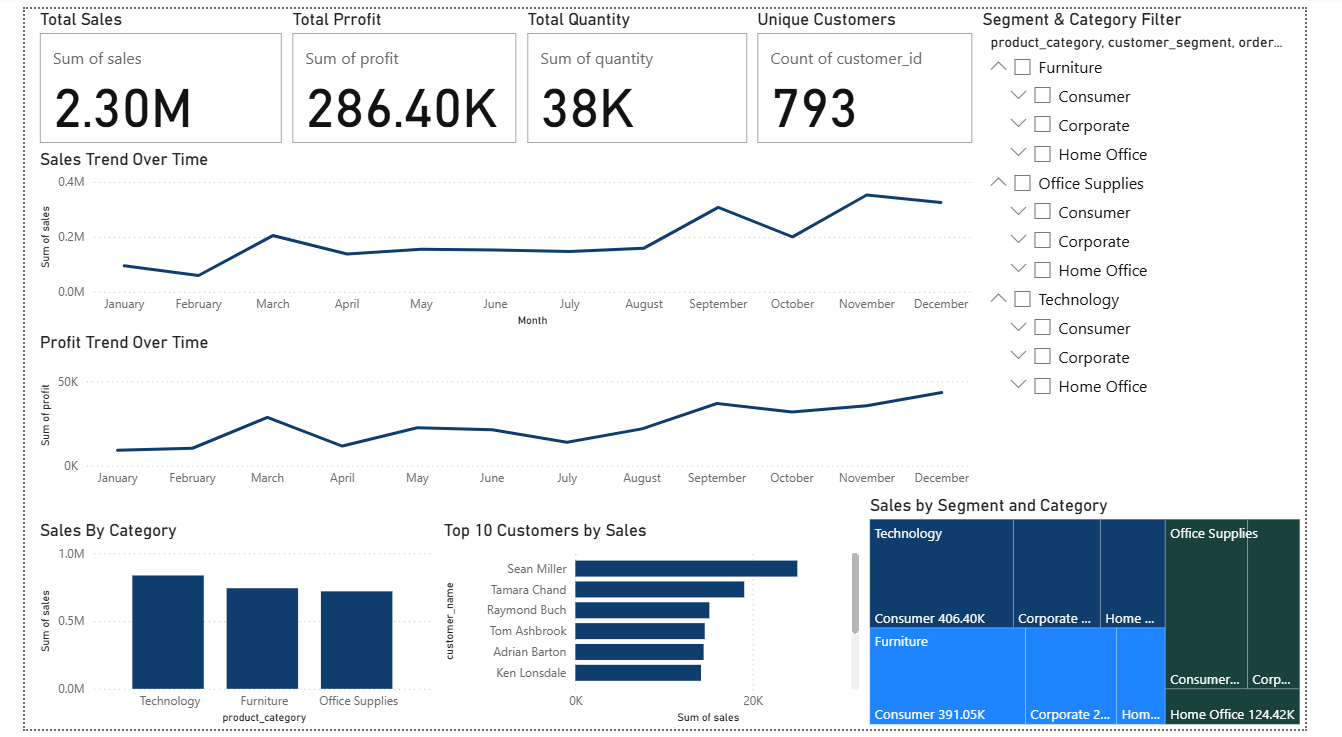

The page's visual inventory and layout, read from the dashboard file:
{"tool":"powerbi","page":{"name":"Page 1","canvas":[1280,720],"ordinal":0},"visuals":[{"type":"cardVisual","title":"Total Sales","fields":{"Data":["Sum(public vw_sales_analysis.sales)"]},"box":[10,0,252.9,140],"z":0},{"type":"cardVisual","title":"Total Prrofit","fields":{"Data":["Sum(public vw_sales_analysis.profit)"]},"box":[262.9,0,234.3,140],"z":1000},{"type":"cardVisual","title":"Total Quantity","fields":{"Data":["Sum(public vw_sales_analysis.quantity)"]},"box":[497.1,0,230,140],"z":2000},{"type":"cardVisual","title":"Unique Customers","fields":{"Data":["Count(public vw_sales_analysis.customer_id)"]},"box":[727.1,0,225.7,140],"z":3000},{"type":"lineChart","title":"Sales Trend Over Time","fields":{"Y":["Sum(public vw_sales_analysis.sales)"],"Category":["public vw_sales_analysis.order_date.Variation.Date Hierarchy.Year","public vw_sales_analysis.order_date.Variation.Date Hierarchy.Quarter","public vw_sales_analysis.order_date.Variation.Date Hierarchy.Month","public vw_sales_analysis.order_date.Variation.Date Hierarchy.Day"]},"box":[10,140,942.9,182.9],"z":4000},{"type":"lineChart","title":"Profit Trend Over Time ","fields":{"Category":["public vw_sales_analysis.order_date.Variation.Date Hierarchy.Year","public vw_sales_analysis.order_date.Variation.Date Hierarchy.Quarter","public vw_sales_analysis.order_date.Variation.Date Hierarchy.Month","public vw_sales_analysis.order_date.Variation.Date Hierarchy.Day"],"Y":["Sum(public vw_sales_analysis.profit)"]},"box":[10,322.9,942.9,164.3],"z":5000},{"type":"clusteredColumnChart","title":"Sales By Category","fields":{"Y":["Sum(public vw_sales_analysis.sales)"],"Category":["public vw_sales_analysis.product_category"]},"box":[10,511.4,404.3,208.6],"z":6000},{"type":"barChart","title":"Top 10 Customers by Sales","fields":{"Category":["public vw_sales_analysis.customer_name"],"Y":["Sum(public vw_sales_analysis.sales)"]},"box":[414.3,511.4,425.7,208.6],"z":7000},{"type":"slicer","title":"Segment & Category Filter","fields":{"Values":["public vw_sales_analysis.product_category","public vw_sales_analysis.customer_segment","public vw_sales_analysis.order_quarter","public vw_sales_analysis.order_year"]},"box":[952.5,0,327.5,486.2],"z":8000},{"type":"treemap","title":"Sales by Segment and Category","fields":{"Group":["public vw_sales_analysis.product_category"],"Values":["Sum(public vw_sales_analysis.sales)"],"Details":["public vw_sales_analysis.customer_segment"]},"box":[840,485.7,440,234.3],"z":9000}]}

Visuals, with their boxes in screenshot pixels (x1, y1, x2, y2), scaled from the page's 1280x720 canvas onto the 1342x737 screenshot:
"Total Sales" cardVisual: pyautogui.locateOnScreen(10, 0, 276, 143)
"Total Prrofit" cardVisual: pyautogui.locateOnScreen(276, 0, 521, 143)
"Total Quantity" cardVisual: pyautogui.locateOnScreen(521, 0, 762, 143)
"Unique Customers" cardVisual: pyautogui.locateOnScreen(762, 0, 999, 143)
"Sales Trend Over Time" lineChart: pyautogui.locateOnScreen(10, 143, 999, 331)
"Profit Trend Over Time " lineChart: pyautogui.locateOnScreen(10, 331, 999, 499)
"Sales By Category" clusteredColumnChart: pyautogui.locateOnScreen(10, 523, 434, 736)
"Top 10 Customers by Sales" barChart: pyautogui.locateOnScreen(434, 523, 881, 736)
"Segment & Category Filter" slicer: pyautogui.locateOnScreen(999, 0, 1341, 498)
"Sales by Segment and Category" treemap: pyautogui.locateOnScreen(881, 497, 1341, 736)
